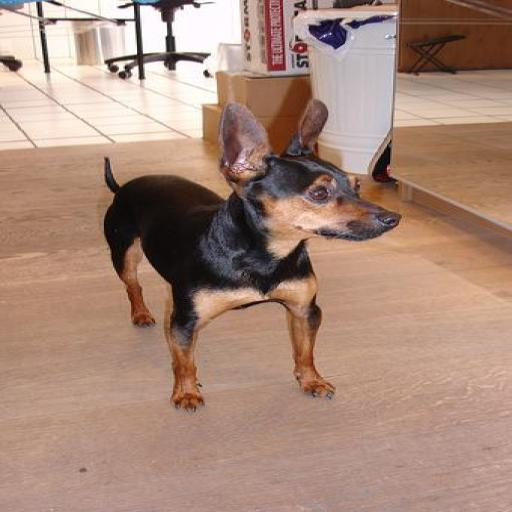dog_face: (208, 86, 424, 250)
